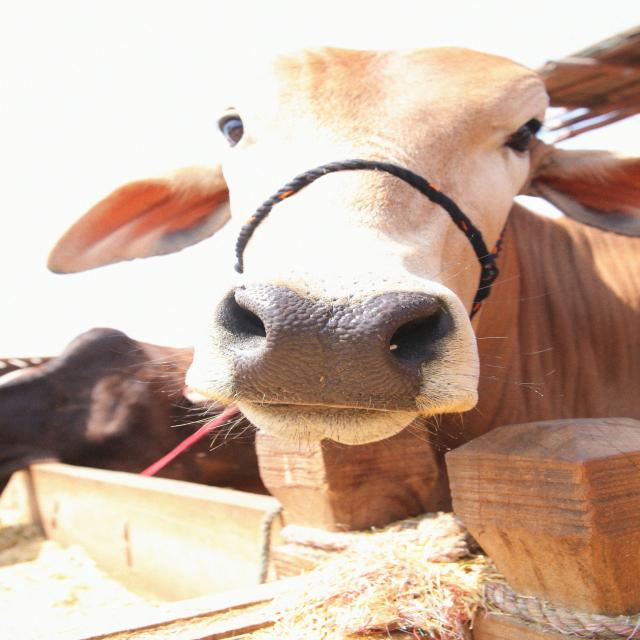muzzles: (207, 272, 461, 427)
